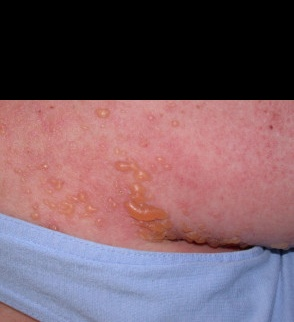SJS-TEN: (11, 99, 294, 252)
